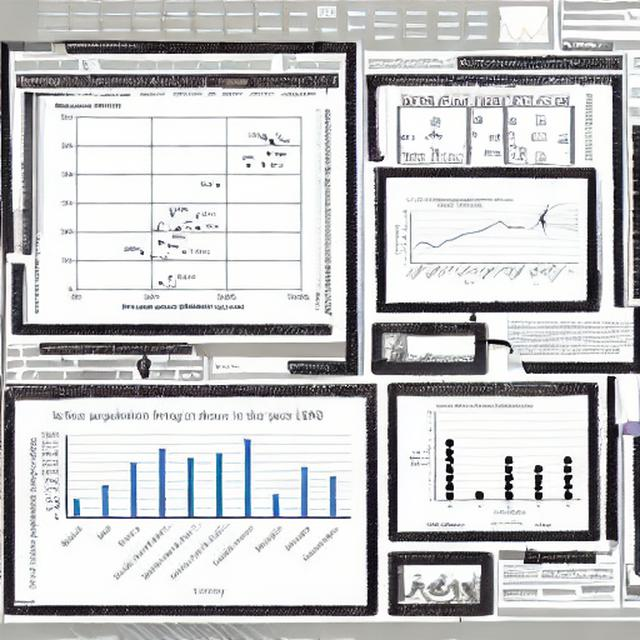Graph: (18, 403, 356, 598), (50, 100, 313, 315), (403, 400, 586, 520), (390, 196, 530, 285), (492, 1, 554, 48)
